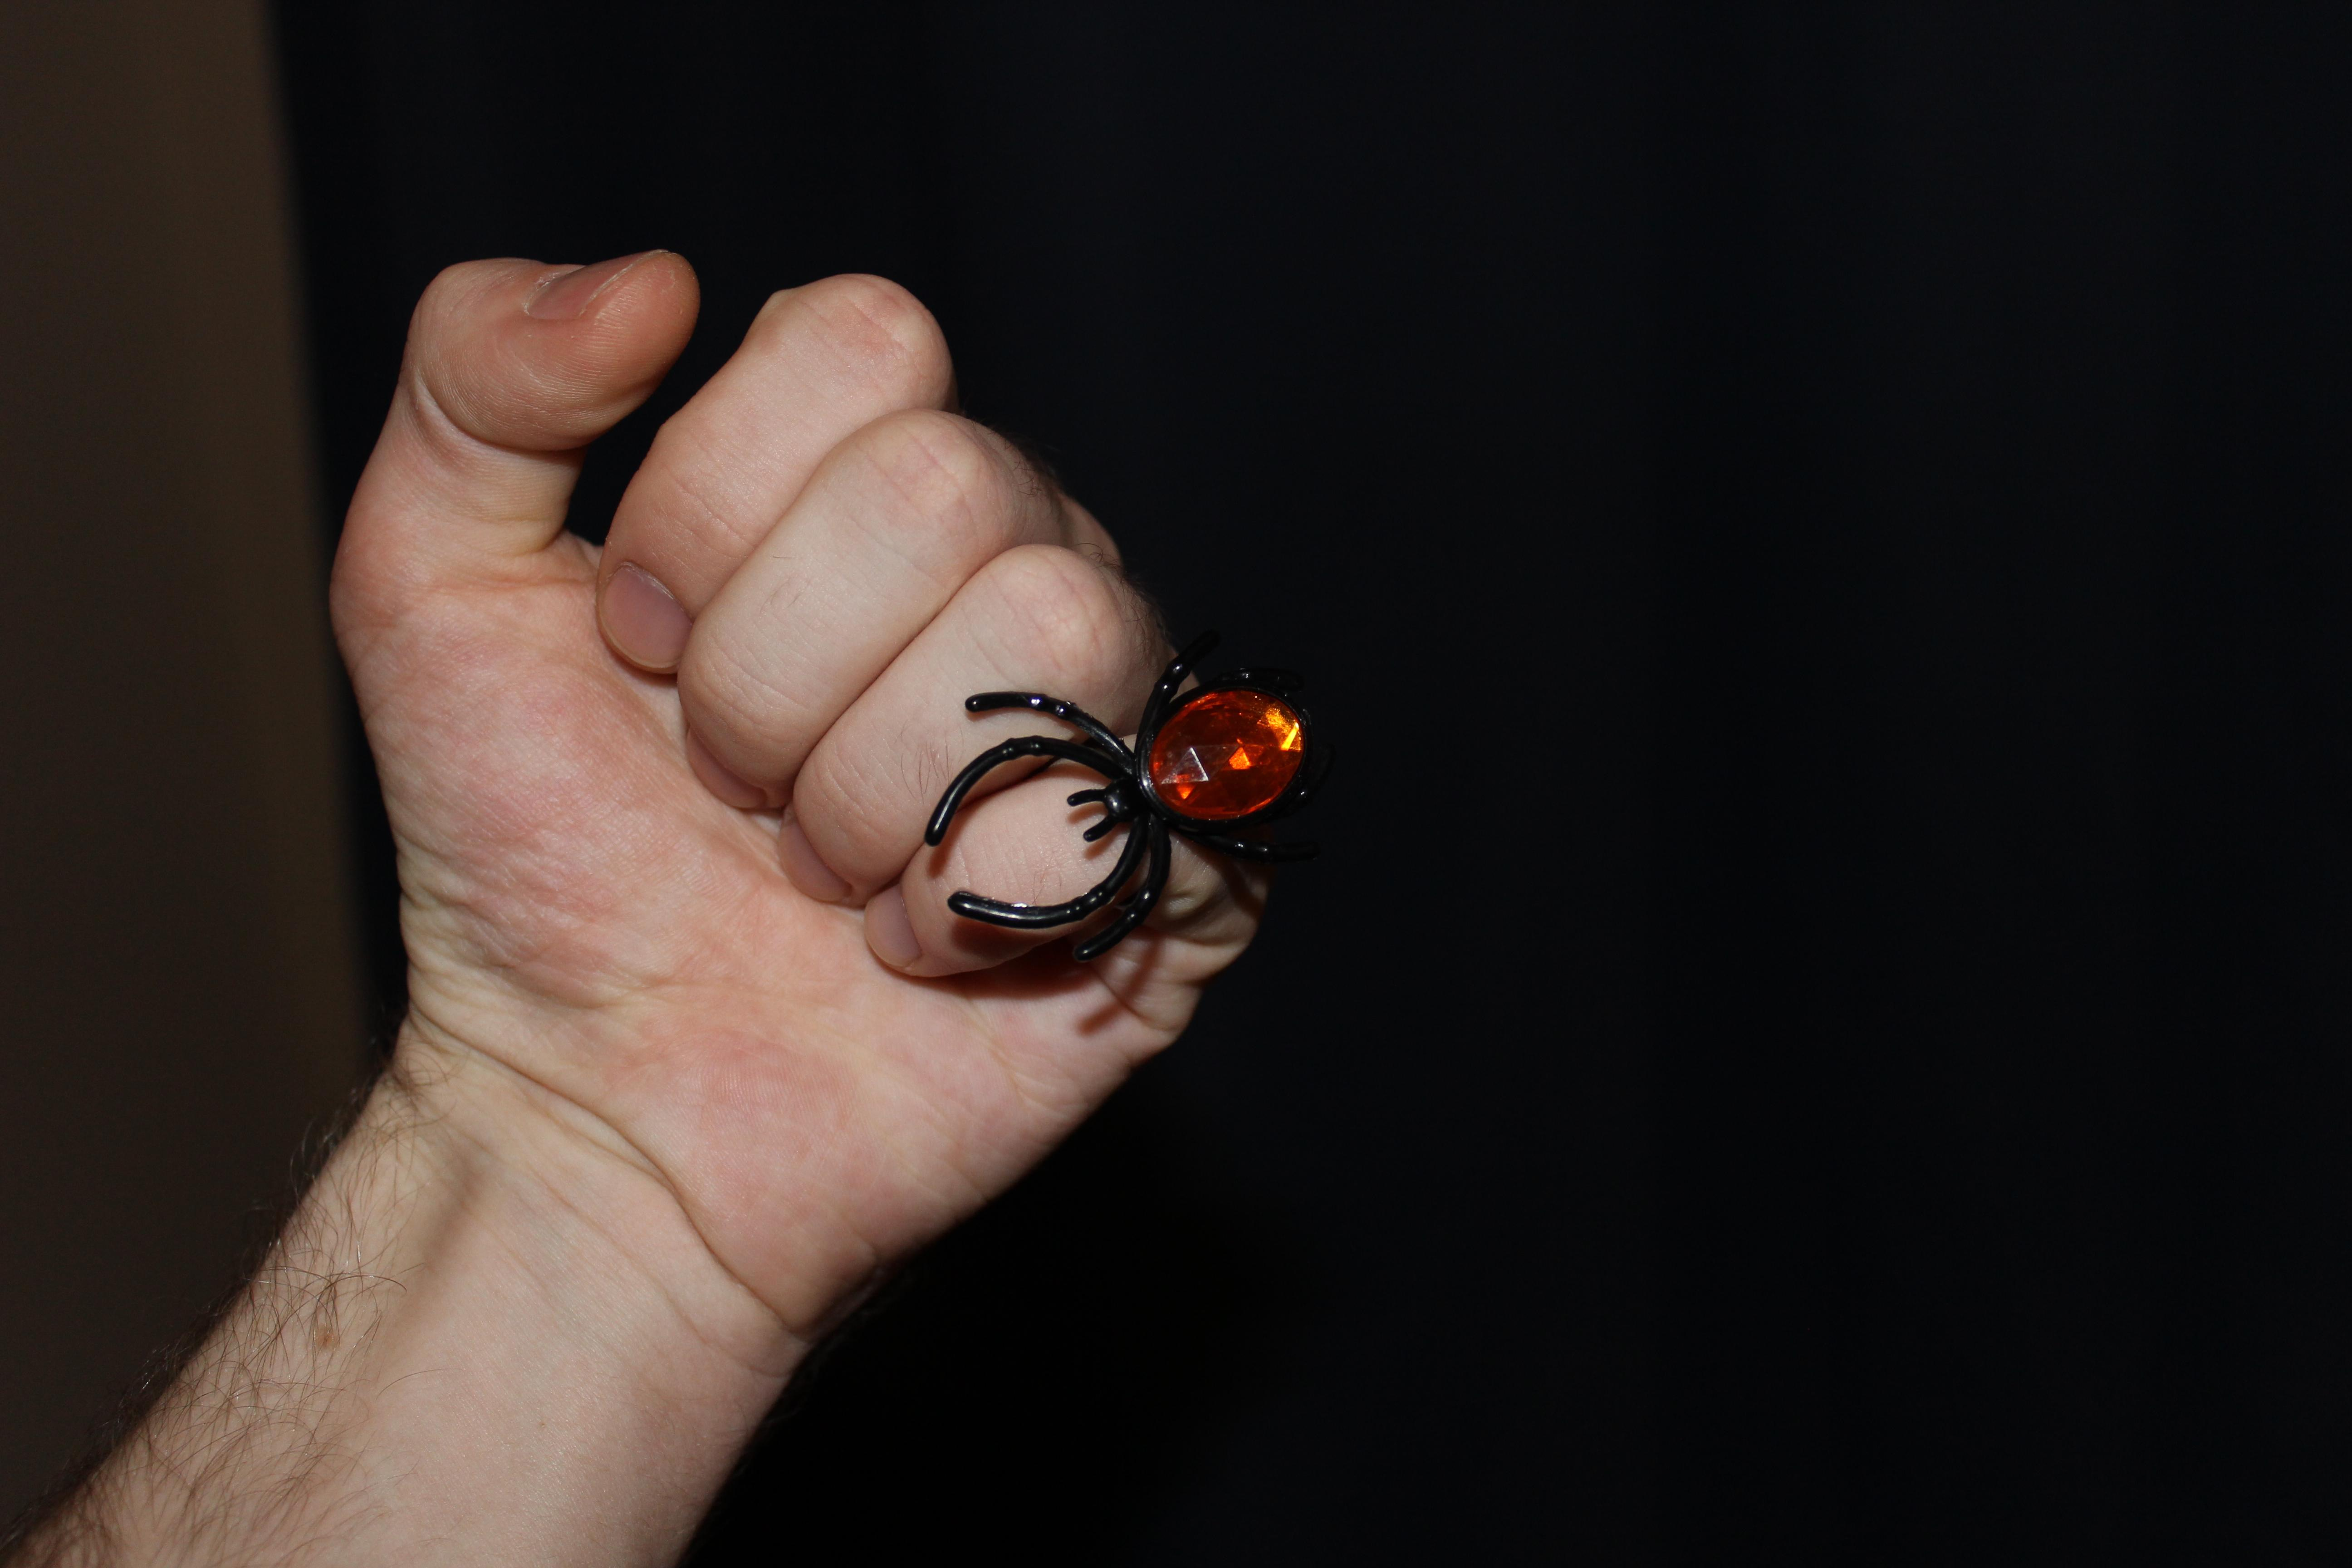spiderRing: (903, 593, 1381, 1060)
